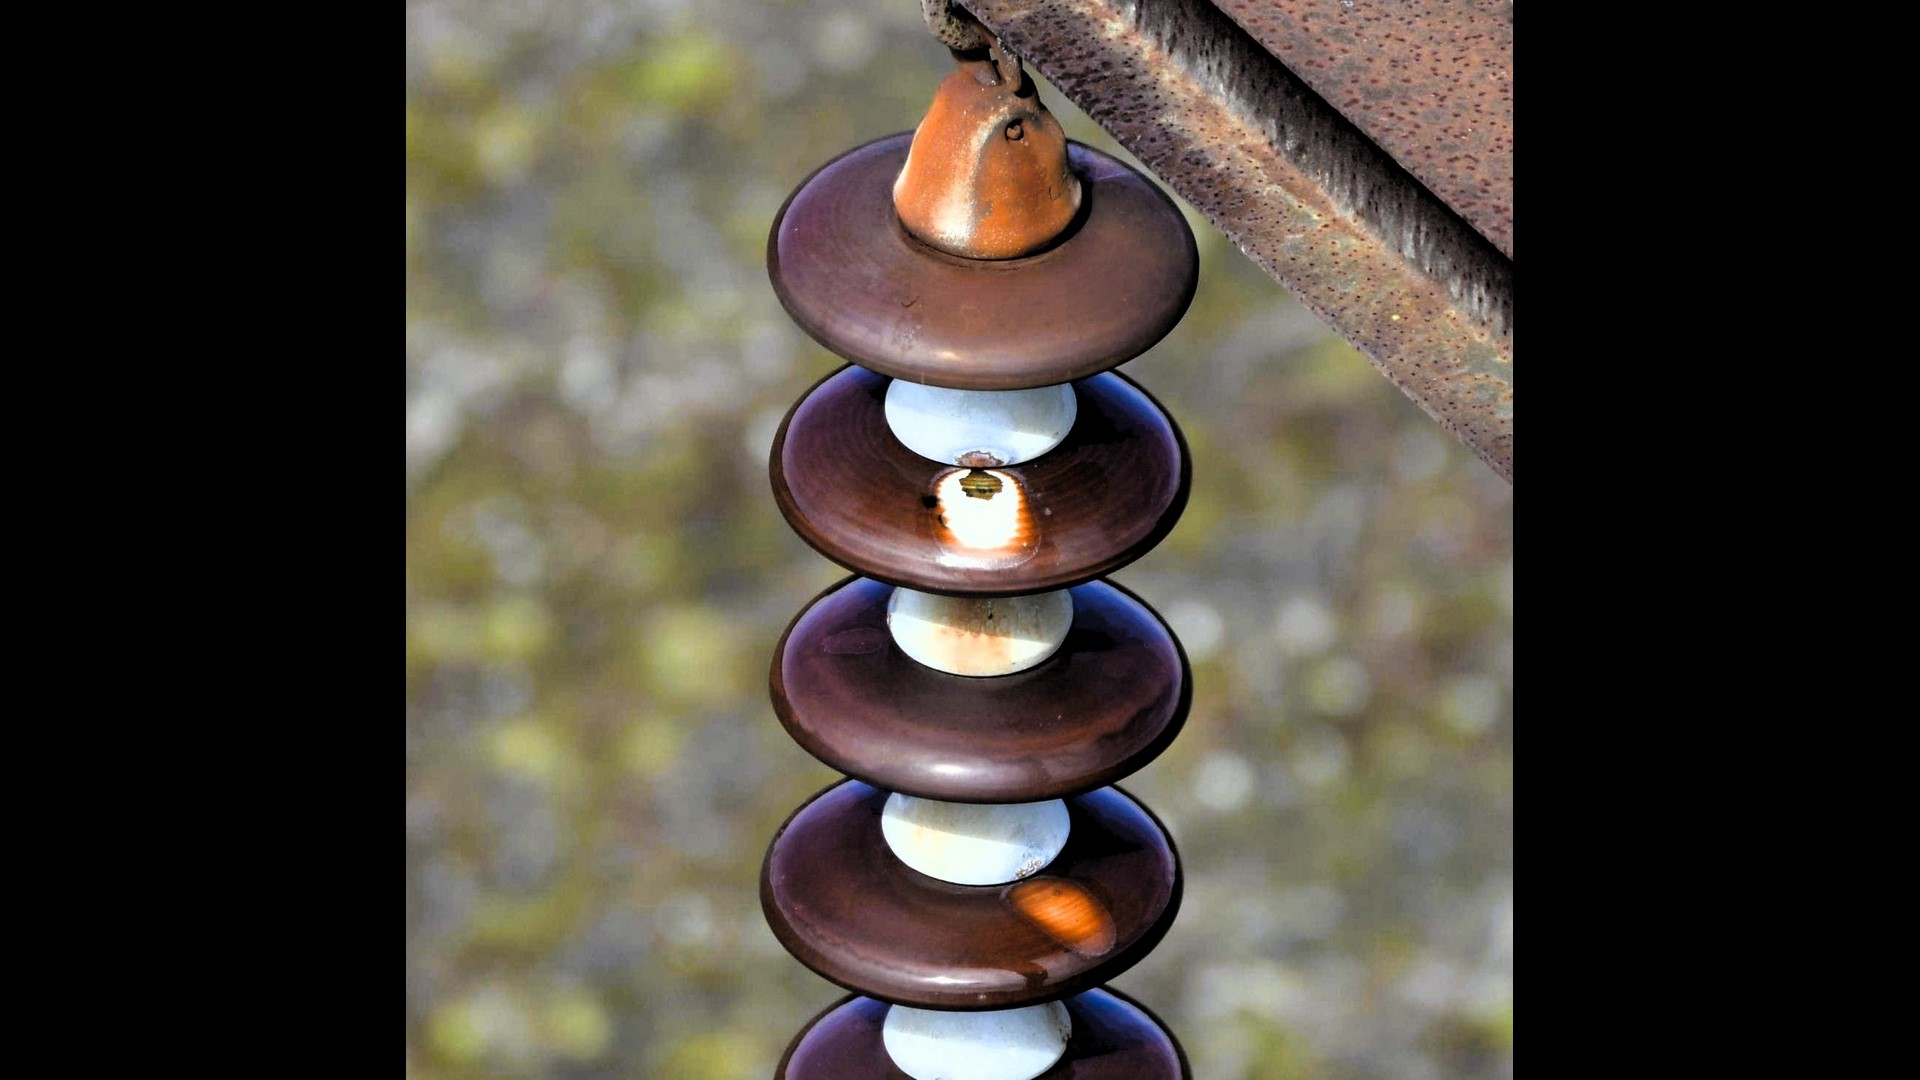Insulator flashover: (760, 357, 1211, 607), (754, 771, 1188, 1015)
